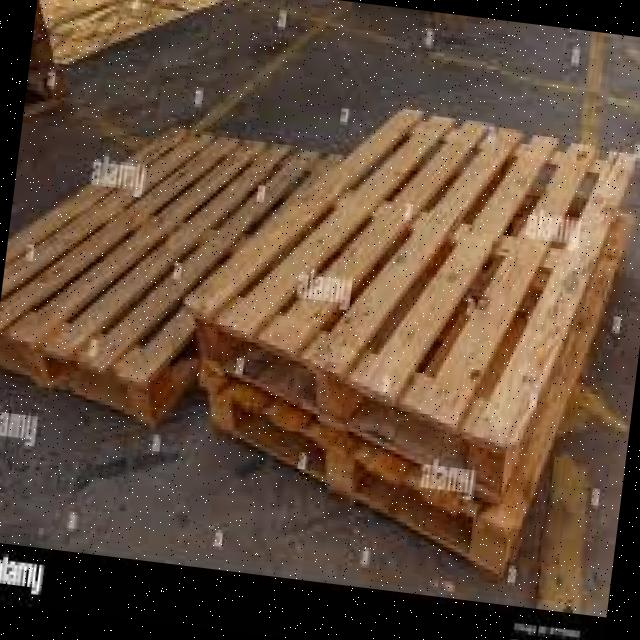Wooden-Pallets: (176, 98, 640, 502), (199, 368, 526, 578)
